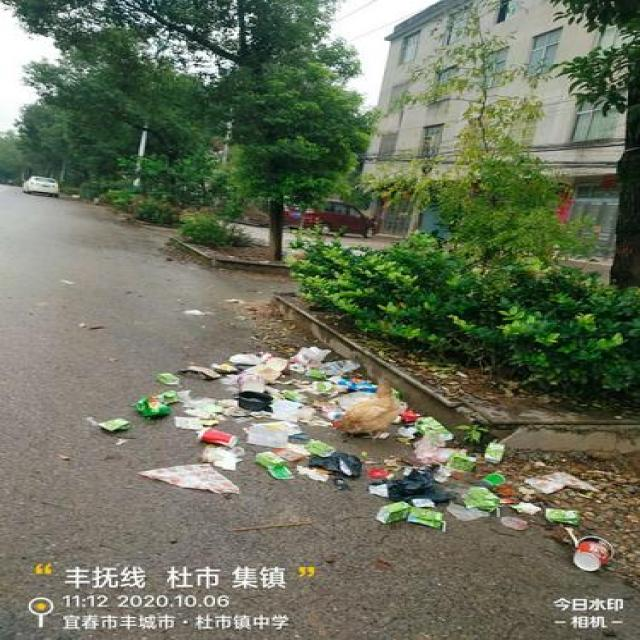garbage: (84, 347, 611, 571)
